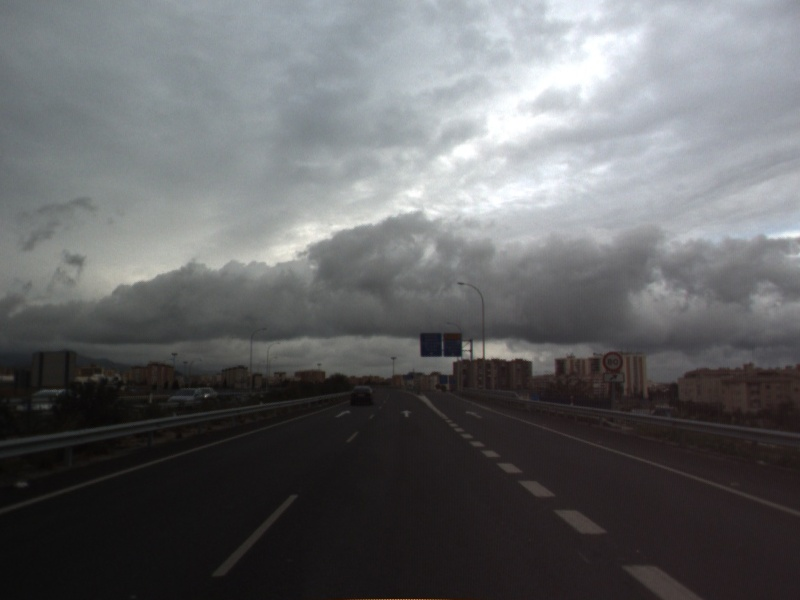STRAIGHT: (332, 407, 353, 420), (463, 408, 484, 420), (398, 408, 415, 419)
